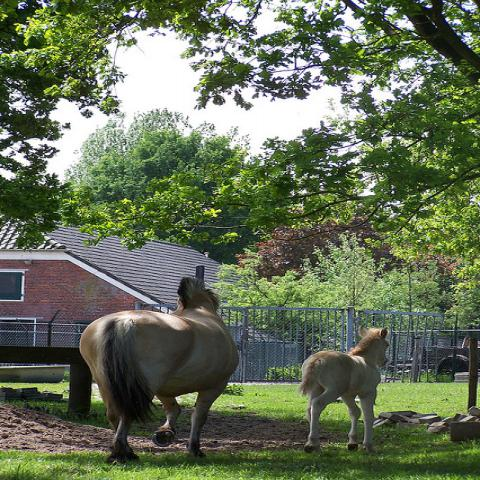car: (436, 354, 469, 374)
